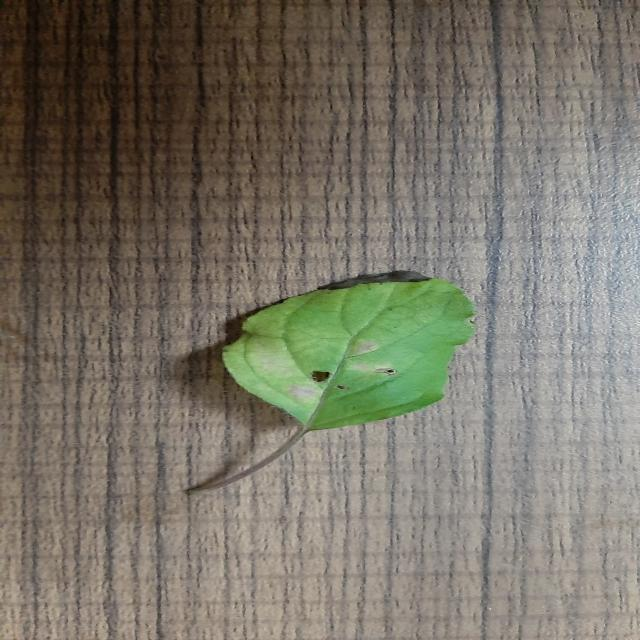defectedtulsi: (276, 328, 398, 429)
tulsi: (222, 279, 474, 430)
